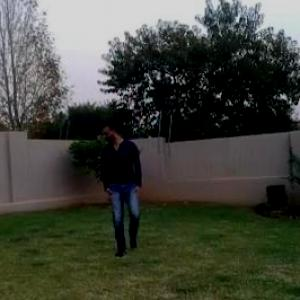follow: (103, 111, 144, 252)
